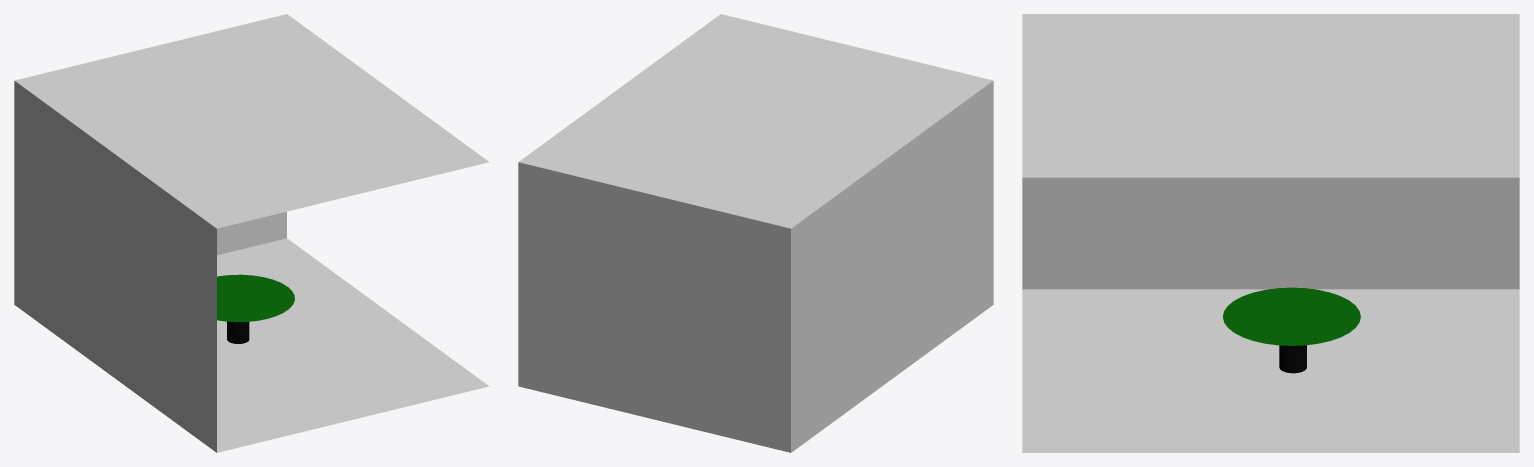
Rendered from blackjack.glb.
3 views of the same model, side by side, from view 1: azimuth 30°, elevation 25°; view 2: azimuth 150°, elevation 25°; view 3: azimuth 270°, elevation 25° (orthographic). The views are drawn at different scales.
Visible parts, largest first — view 1: Cube, Circle, Cylinder; view 2: Cube; view 3: Cube, Circle, Cylinder.
Part boxes in pixels (x1,y1,x2,y2): Cube: (14,14,489,452); Circle: (217,274,294,322); Cylinder: (227,321,249,343); Cube: (518,14,993,452); Cube: (1022,14,1519,452); Circle: (1223,287,1360,345); Cylinder: (1279,345,1306,373).
Bounding box in the file's own units: 14 × 11 × 18.
